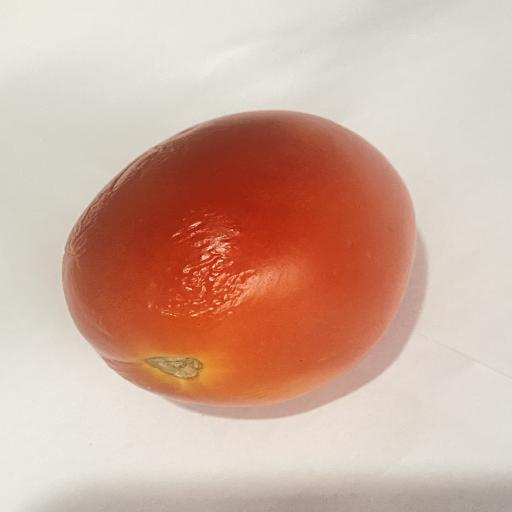spoiled: (63, 112, 415, 404)
